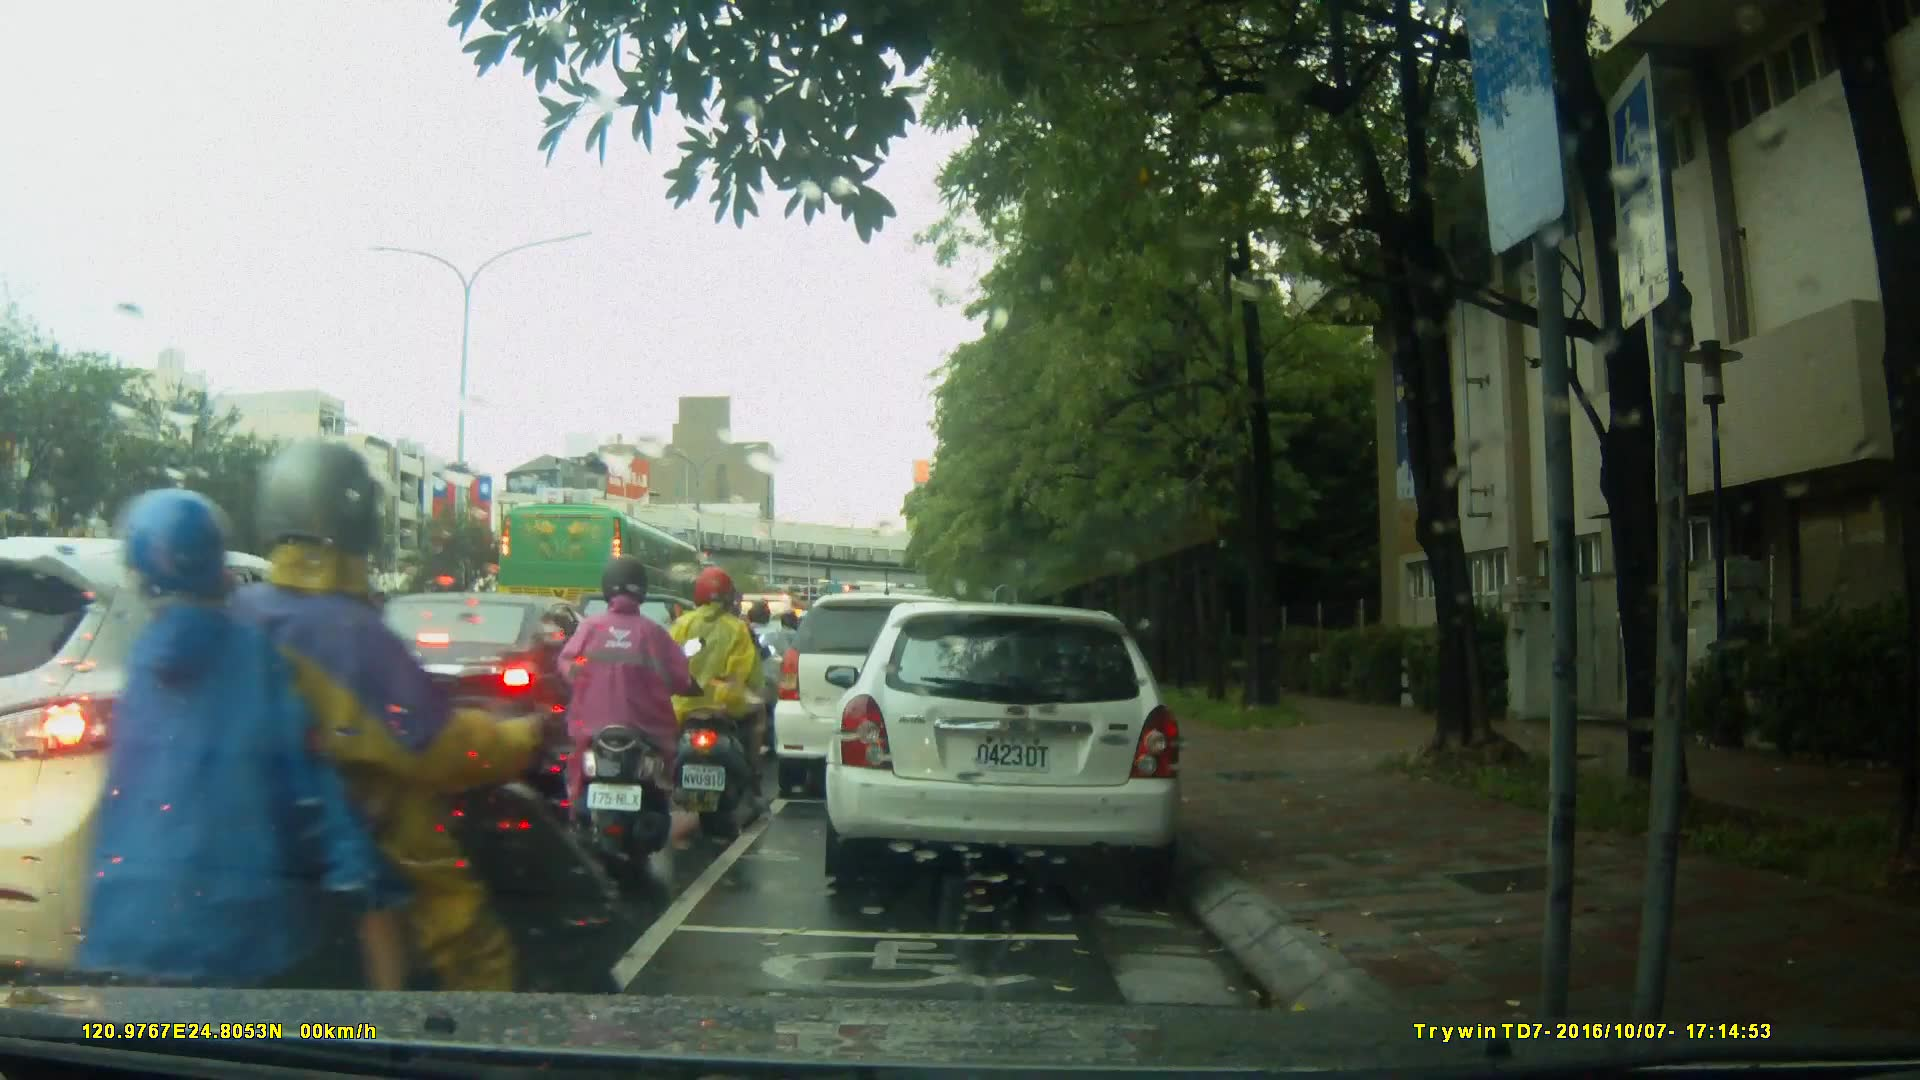rider: (73, 440, 613, 1080), (564, 562, 685, 880), (677, 563, 767, 819), (738, 598, 797, 755), (772, 604, 815, 720)
vehicle: (5, 536, 469, 988), (831, 592, 1196, 897), (316, 589, 629, 776), (770, 590, 999, 804), (497, 503, 712, 636)
